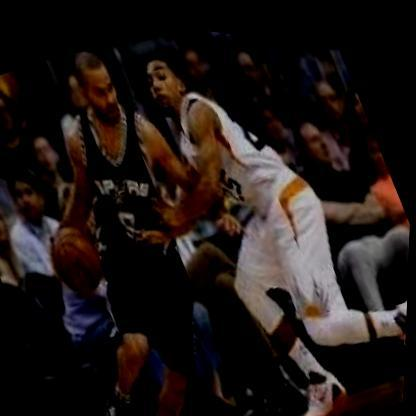basketball: (39, 208, 119, 303)
